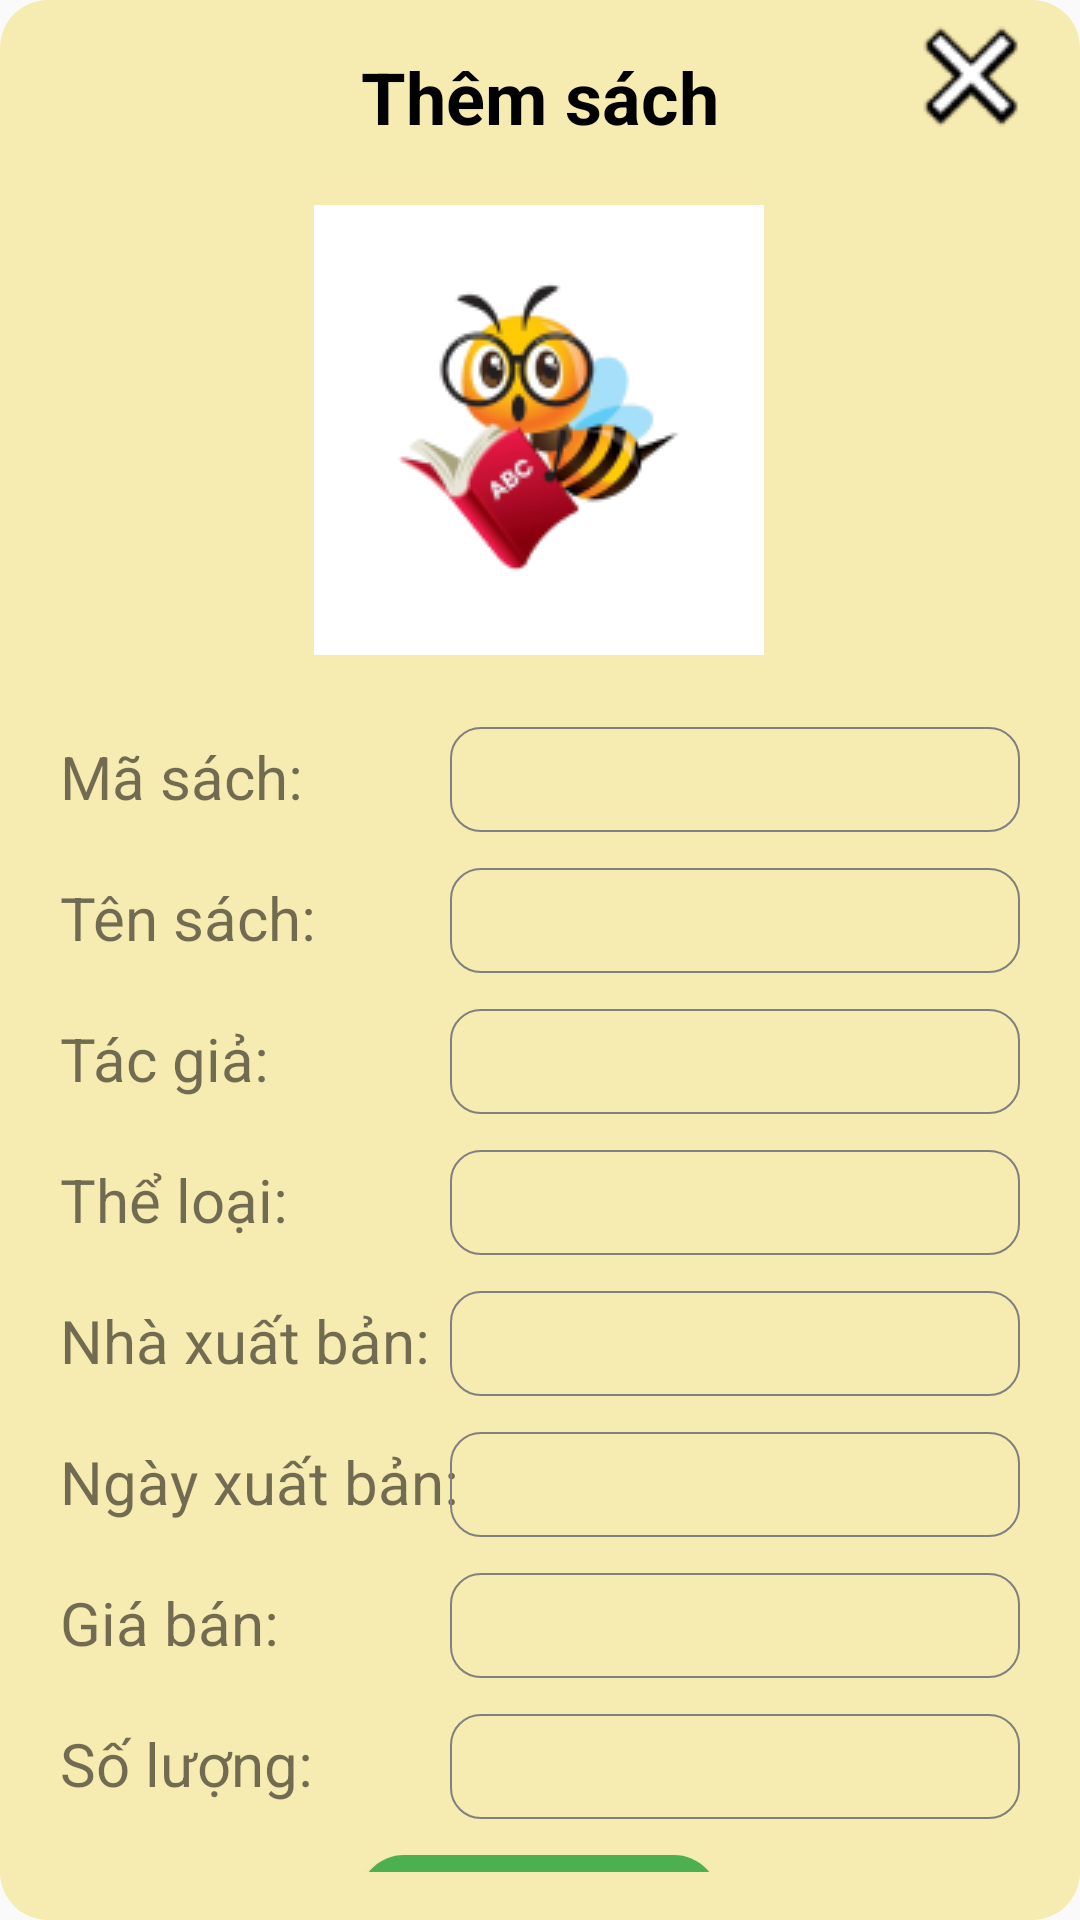

Named icons in this screenshot (1080w x 1920h) and their centers, (x=x, y=y):
close: (x=971, y=76)
